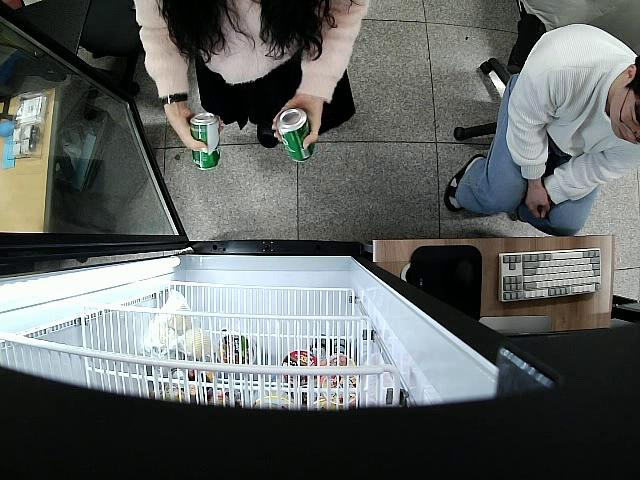00_hand: (167, 105, 225, 155), (271, 97, 324, 150)
12_chilsungCider: (185, 111, 222, 173), (275, 108, 315, 164)
